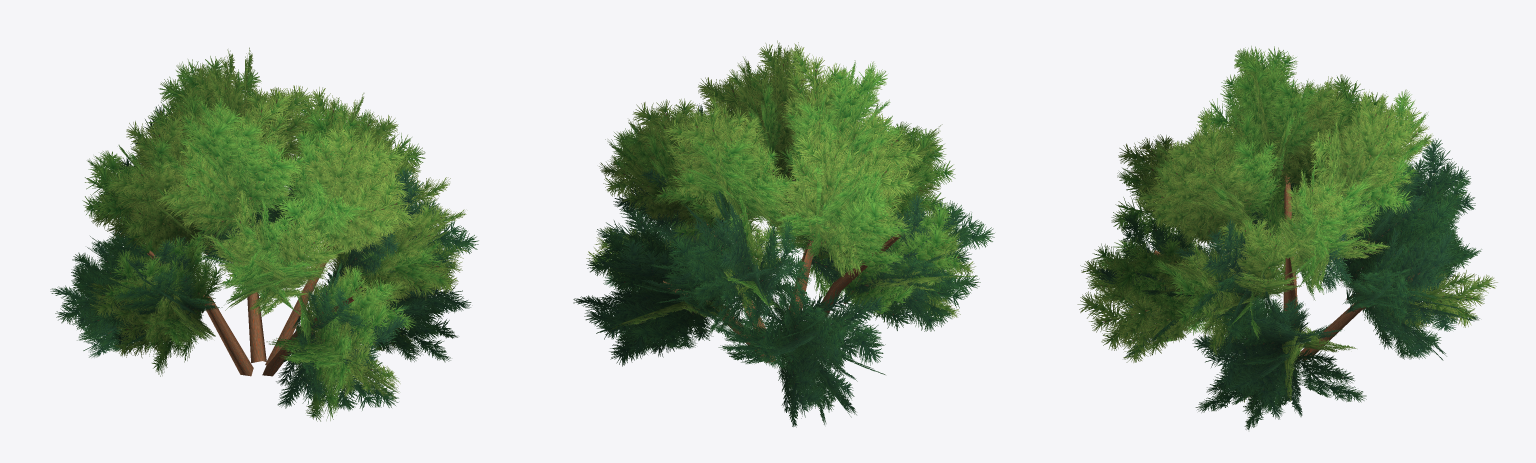
File: busch-2.glb
The picture shows the model from 3 angles, left to right: view 1: azimuth 30°, elevation 25°; view 2: azimuth 150°, elevation 25°; view 3: azimuth 270°, elevation 25°; orthographic projection. The views are drawn at different scales.
Parts seen in each view (by area): view 1: busch-2; view 2: busch-2; view 3: busch-2.
Part boxes in pixels (x1,y1,x2,y2): busch-2: (50,47,478,421); busch-2: (573,40,994,427); busch-2: (1077,46,1497,429).
Bounding box in the file's own units: 2.62 × 1.91 × 2.58.
Materials: 2 (2 with a texture image).
